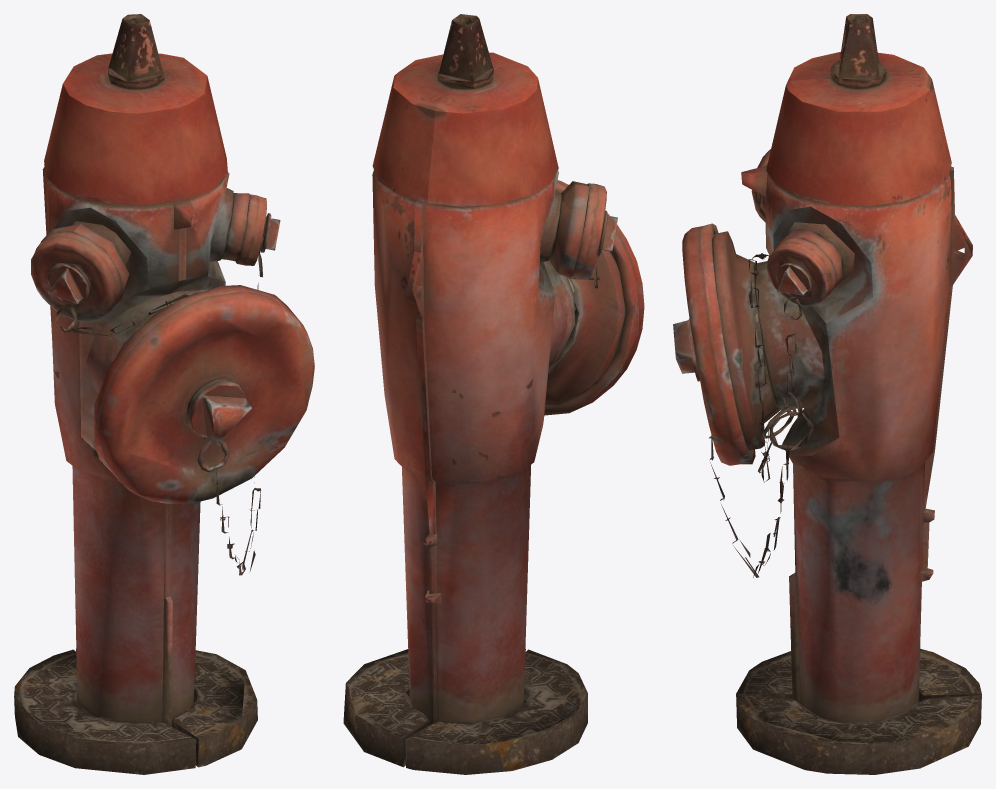
Rendered from FireHydrant.obj.
3 views of the same model, side by side, from view 1: azimuth 30°, elevation 25°; view 2: azimuth 150°, elevation 25°; view 3: azimuth 270°, elevation 25° (orthographic).
Visible parts, largest first — view 1: fire_hydrant_aged, fire_hydrant_cap_01_aged, fire_hydrant_cap_03_aged_ee5b41, fire_hydrant_chain_aged, fire_hydrant_cap_02_aged_9d0eb3, fire_hydrant_cap_03_aged_3f9b86; view 2: fire_hydrant_aged, fire_hydrant_cap_01_aged, fire_hydrant_cap_03_aged_ee5b41; view 3: fire_hydrant_aged, fire_hydrant_cap_01_aged, fire_hydrant_chain_aged, fire_hydrant_cap_02_aged_9d0eb3.
Part boxes in pixels (x1,y1,x2,y2): fire_hydrant_aged: [14, 14, 257, 774]; fire_hydrant_cap_01_aged: [94, 285, 314, 503]; fire_hydrant_cap_03_aged_ee5b41: [31, 232, 121, 321]; fire_hydrant_chain_aged: [54, 216, 266, 575]; fire_hydrant_cap_02_aged_9d0eb3: [235, 194, 271, 265]; fire_hydrant_cap_03_aged_3f9b86: [47, 268, 83, 304]; fire_hydrant_aged: [343, 14, 625, 774]; fire_hydrant_cap_01_aged: [544, 180, 644, 415]; fire_hydrant_cap_03_aged_ee5b41: [571, 183, 607, 279]; fire_hydrant_aged: [713, 14, 981, 774]; fire_hydrant_cap_01_aged: [673, 223, 755, 465]; fire_hydrant_chain_aged: [709, 253, 813, 577]; fire_hydrant_cap_02_aged_9d0eb3: [767, 237, 836, 306].
Bounding box in the file's own units: 0.2746 × 0.7992 × 0.3174.
1 material, 1 textured.
